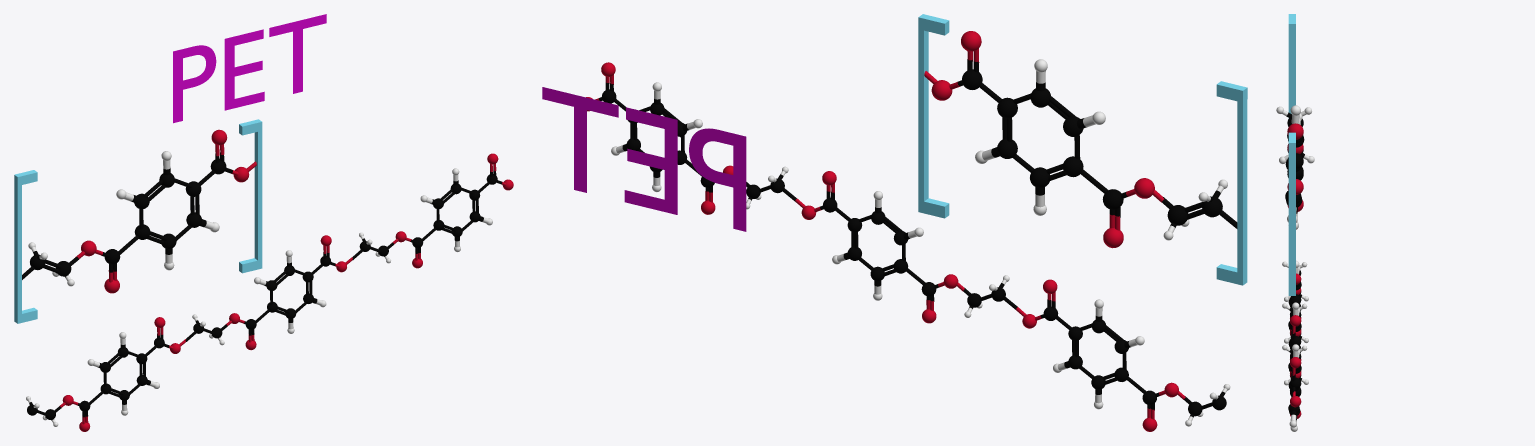
The model's file is PET.glb.
The picture shows the model from 3 angles, left to right: view 1: azimuth 30°, elevation 25°; view 2: azimuth 150°, elevation 25°; view 3: azimuth 270°, elevation 25°; orthographic projection. The views are drawn at different scales.
Visible parts, largest first — view 1: Text.002, Cube.006, Cube.005; view 2: Text.002, Cube.005, Cube.006; view 3: Cube.006, Cube.005.
Boxes of the visible parts, box(x1,y1,x2,y2) form: Text.002: box(173, 14, 326, 123); Cube.006: box(239, 119, 262, 273); Cube.005: box(14, 170, 37, 323); Text.002: box(542, 87, 746, 231); Cube.005: box(1216, 81, 1247, 285); Cube.006: box(918, 14, 949, 218); Cube.006: box(1288, 132, 1295, 295); Cube.005: box(1288, 14, 1295, 118).
Size of the model in its own units: 236 by 124 by 96.04.
